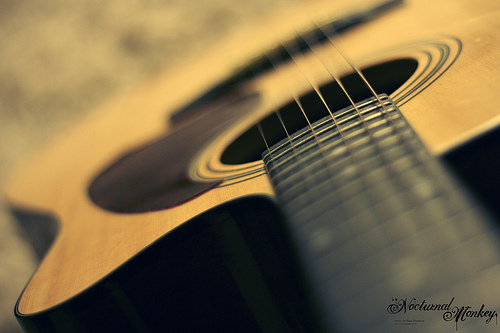guitar: (2, 1, 499, 333)
